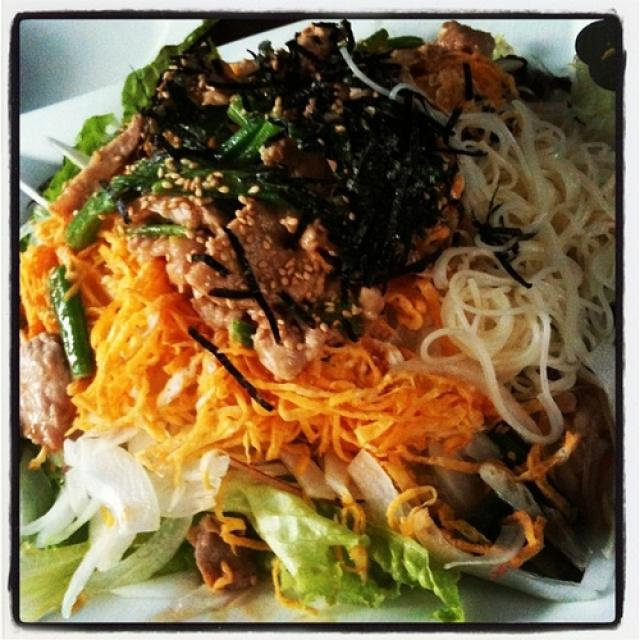面条主食: (33, 32, 599, 604)
